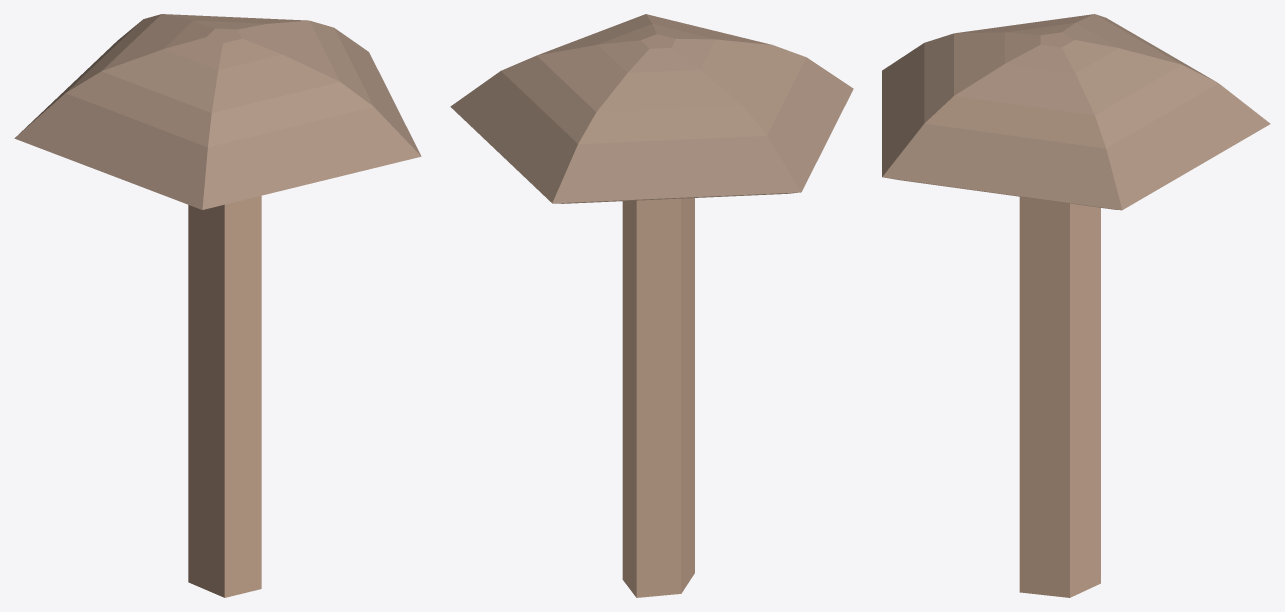
File: Mushroom_04.fbx
The picture shows the model from 3 angles, left to right: view 1: azimuth 30°, elevation 25°; view 2: azimuth 150°, elevation 25°; view 3: azimuth 270°, elevation 25°; orthographic projection.
Parts seen in each view (by area): view 1: Mushroom_04; view 2: Mushroom_04; view 3: Mushroom_04.
Part boxes in pixels (x1=…): Mushroom_04: x1=14, y1=14, x2=421, y2=597; Mushroom_04: x1=450, y1=14, x2=853, y2=597; Mushroom_04: x1=882, y1=14, x2=1270, y2=597.
Size of the model in its own units: 175 by 257 by 167.
